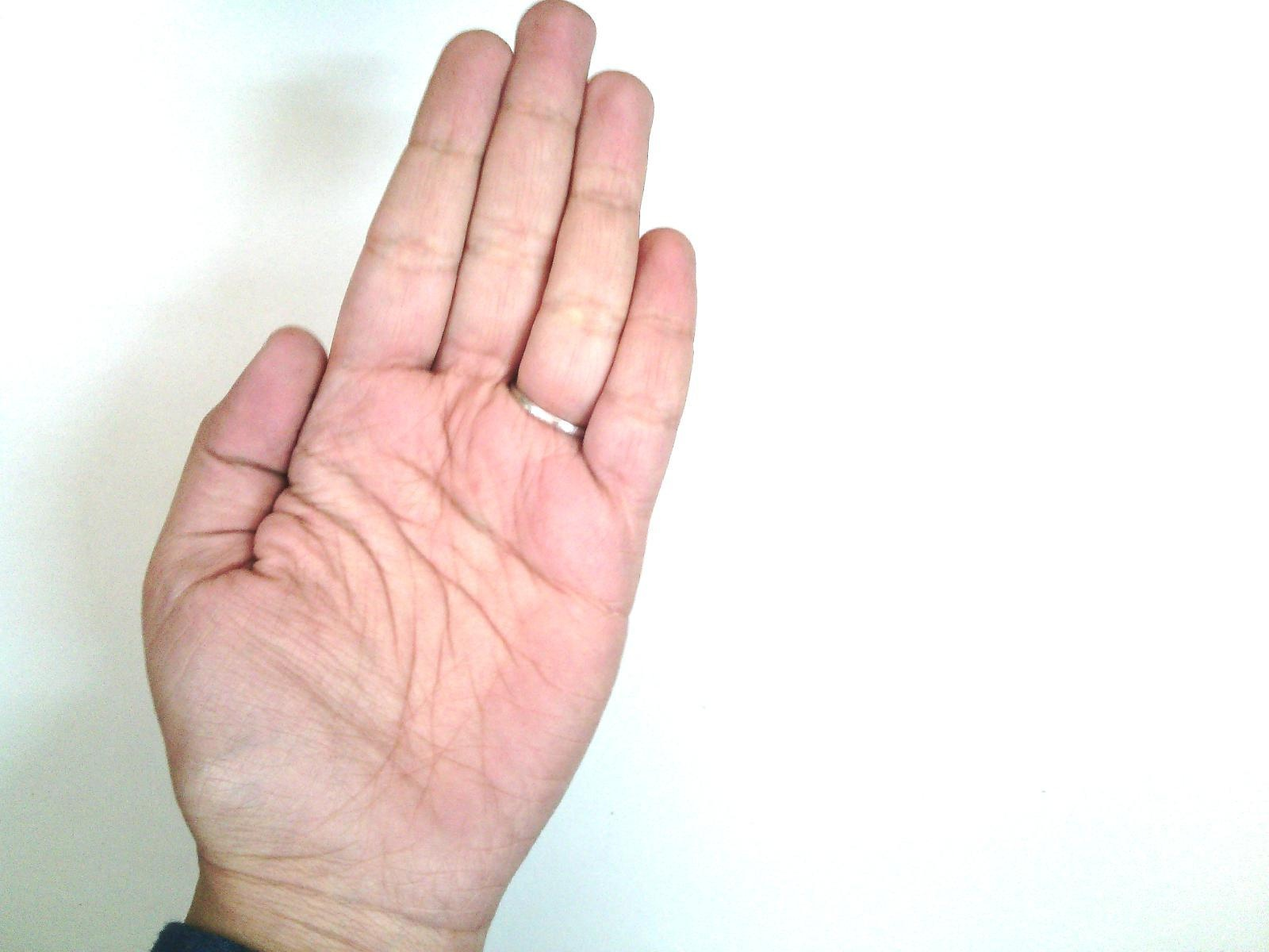open_palm: (138, 4, 701, 946)
